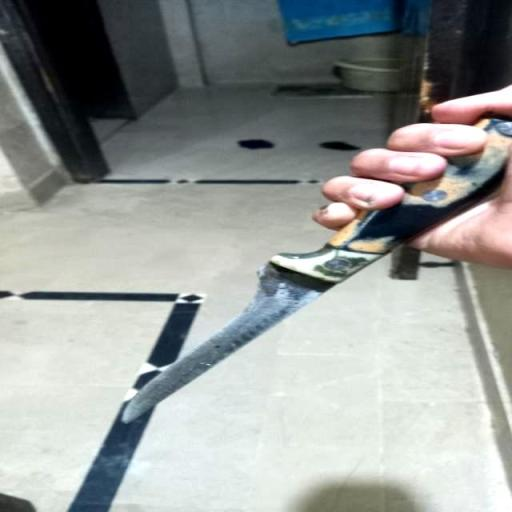knife: (116, 110, 512, 424)
